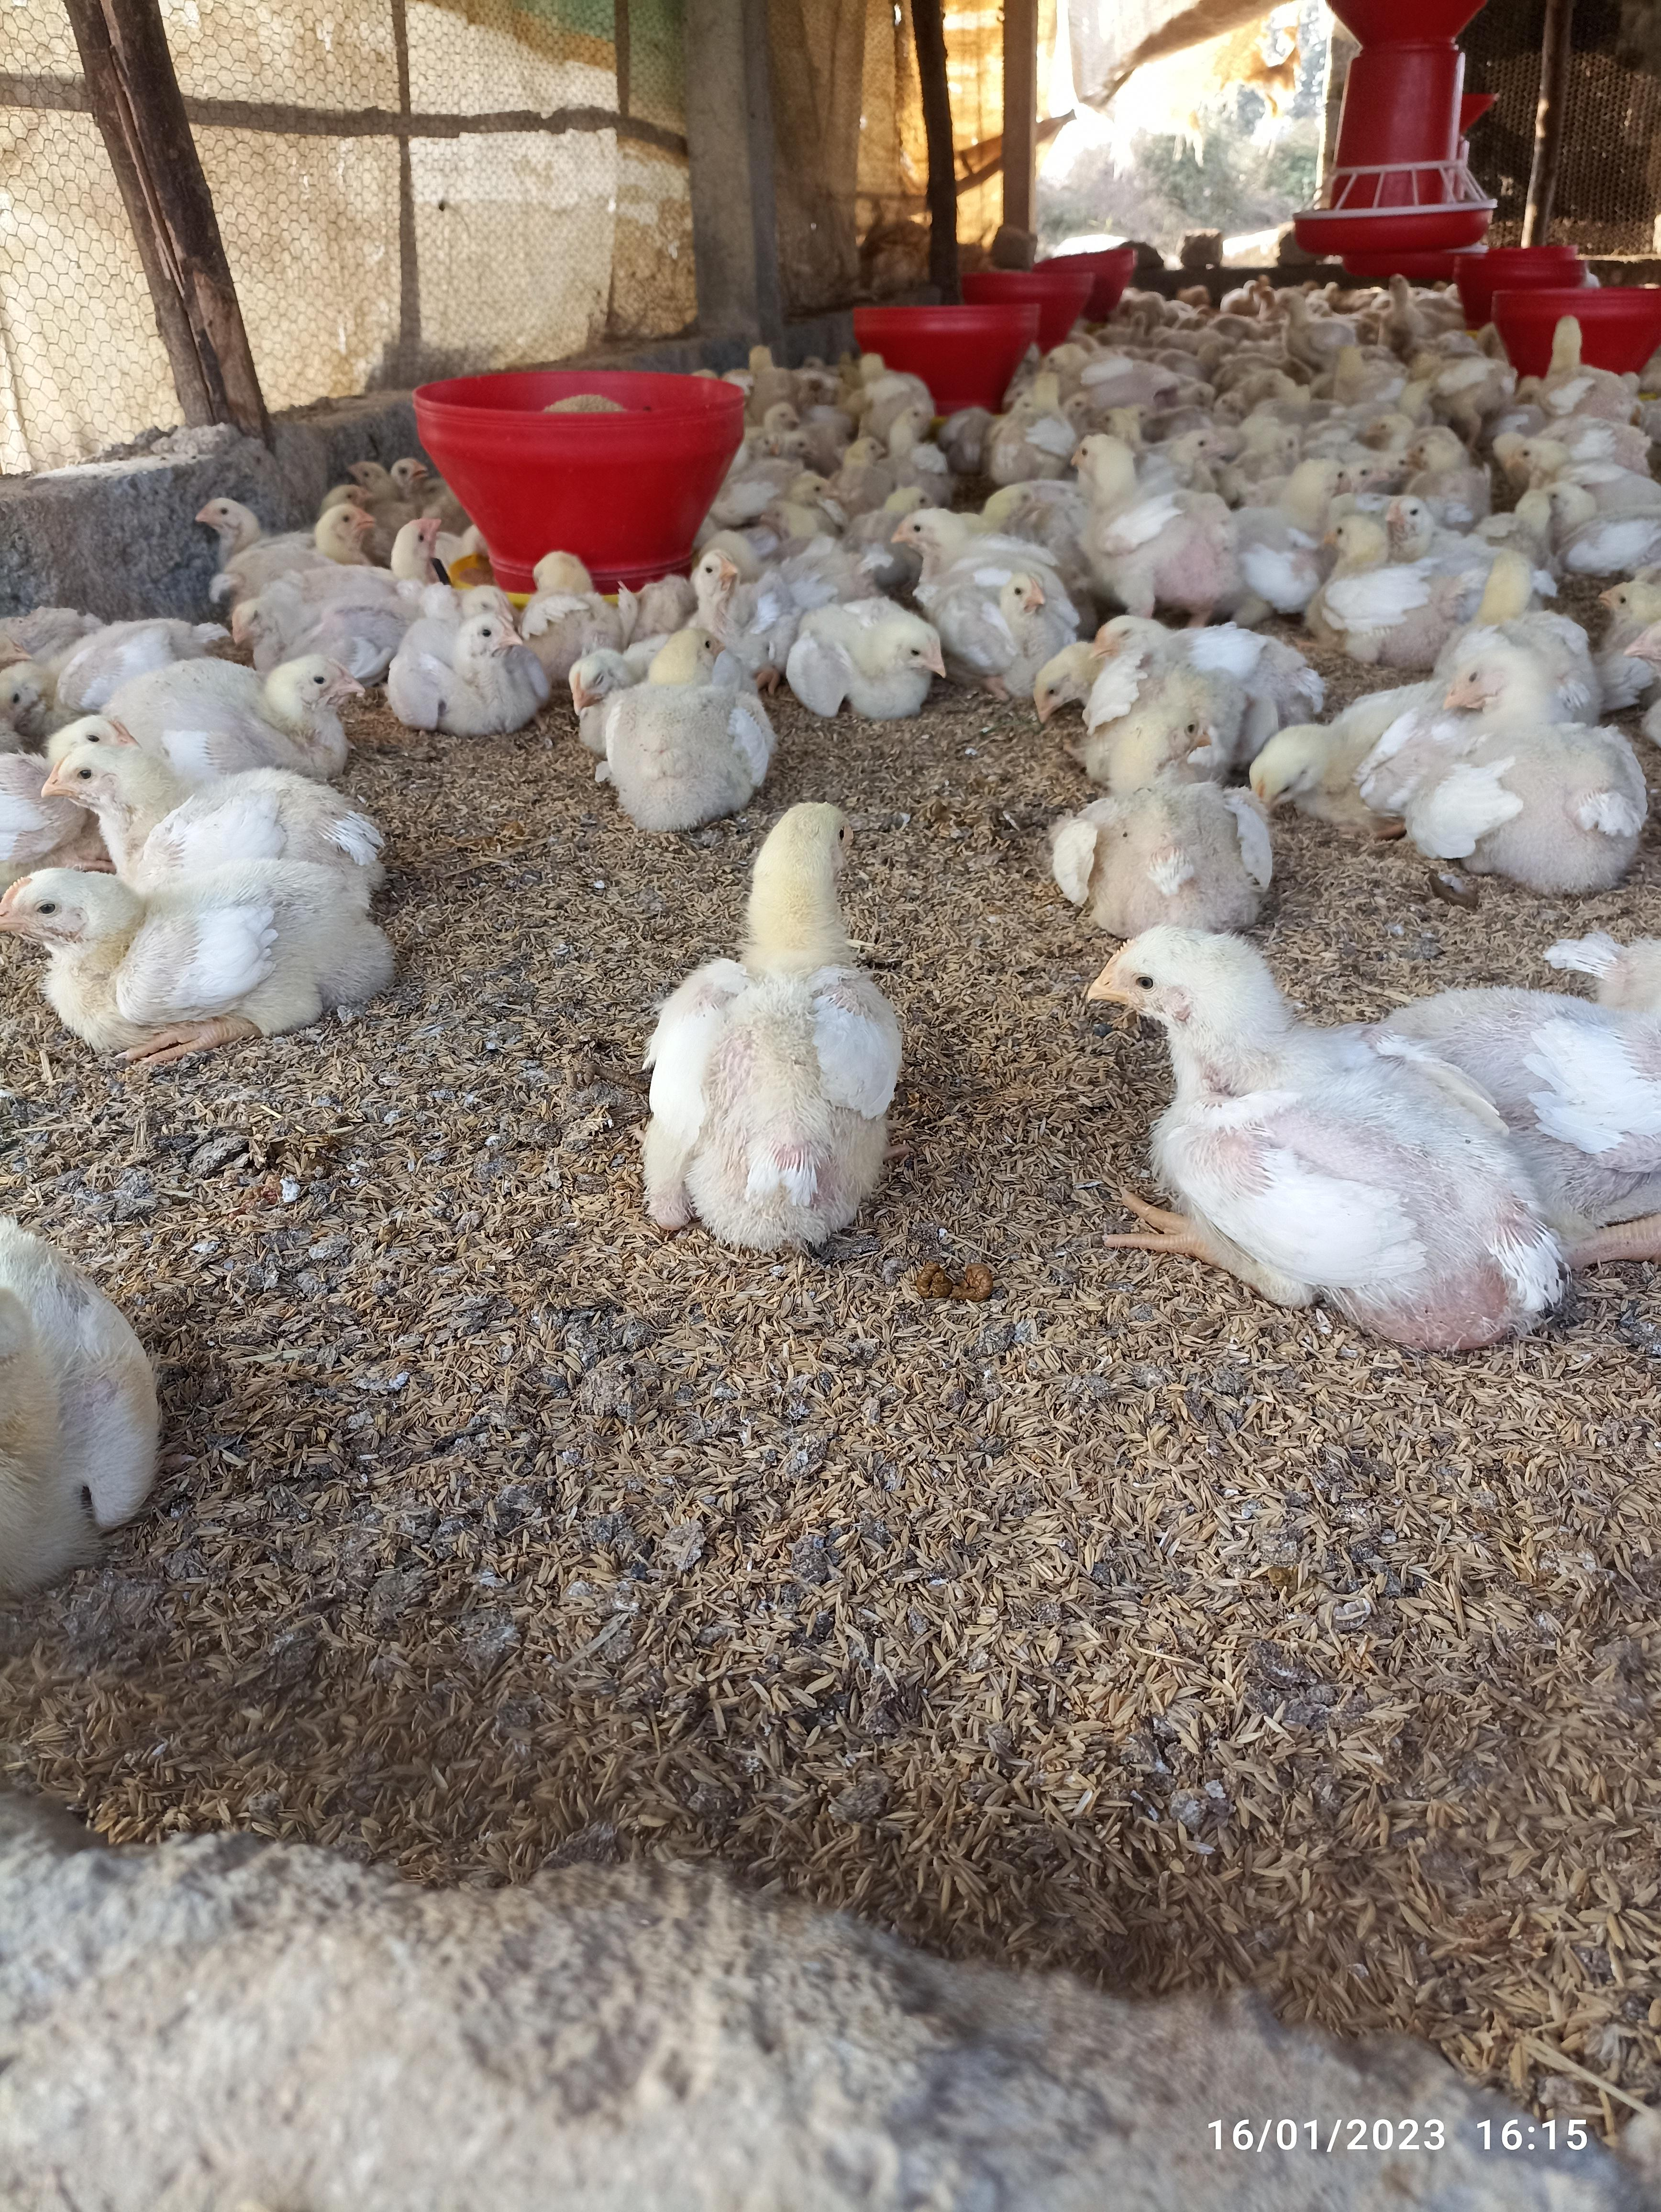Pollos: (1094, 925, 1593, 1359), (642, 806, 916, 1244), (12, 857, 396, 1066), (1422, 630, 1661, 877), (42, 712, 393, 870), (1078, 705, 1274, 911), (1054, 431, 1267, 618), (1021, 618, 1307, 745), (605, 625, 782, 785), (1314, 506, 1466, 651), (211, 495, 373, 618), (895, 509, 1068, 618), (804, 614, 963, 727), (396, 625, 529, 727)
